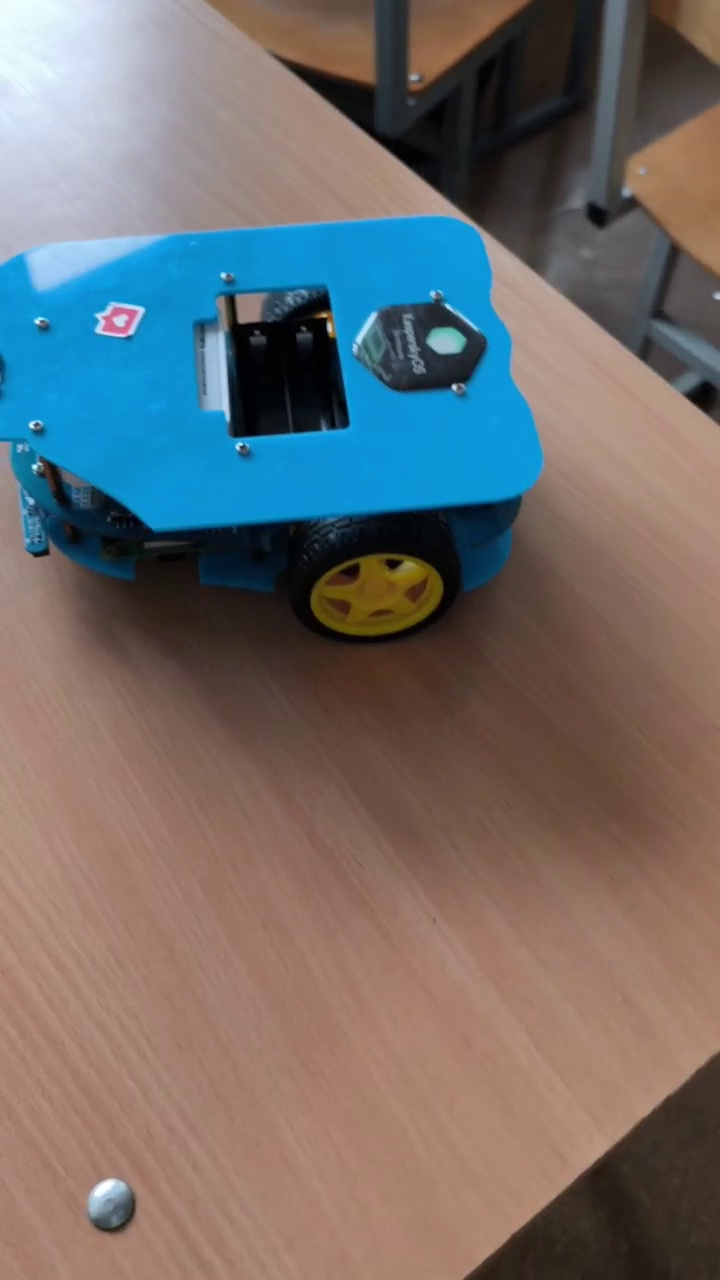robot: (1, 214, 548, 644)
